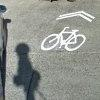Bicycle: (39, 21, 87, 56)
